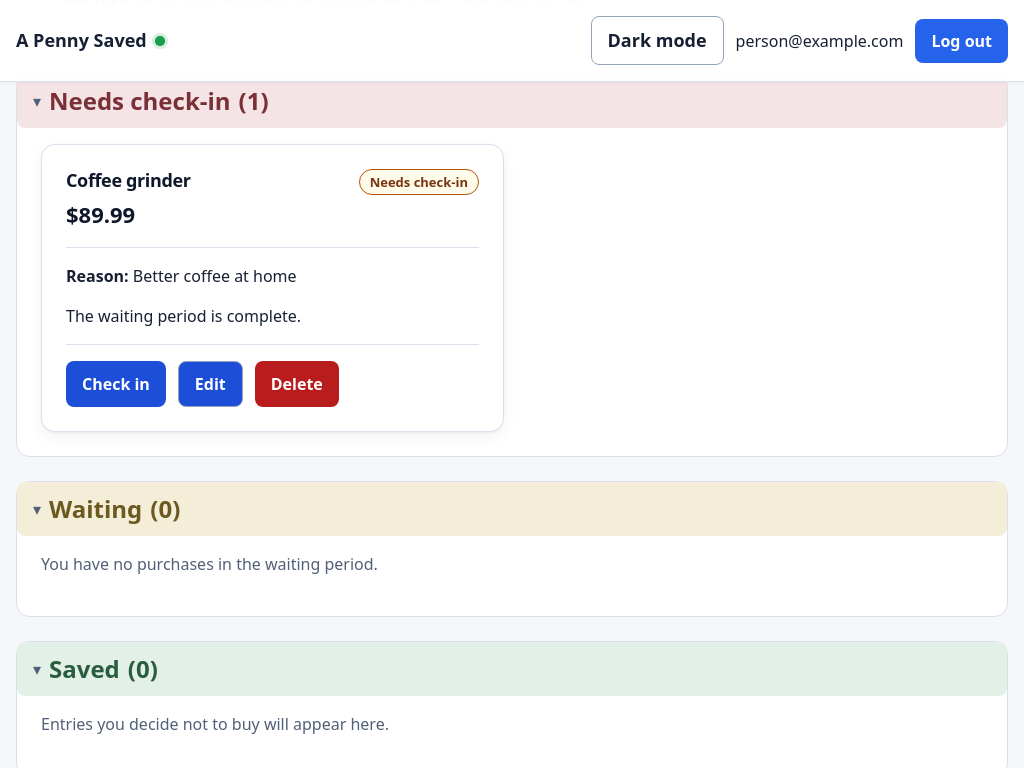
Test case: authentication routes › opens an eligible check-in from the dashboard with current server context
(page scrolled)
Click the link "Check in" at point(116, 384), box [66, 361, 166, 407]
(page scrolled)
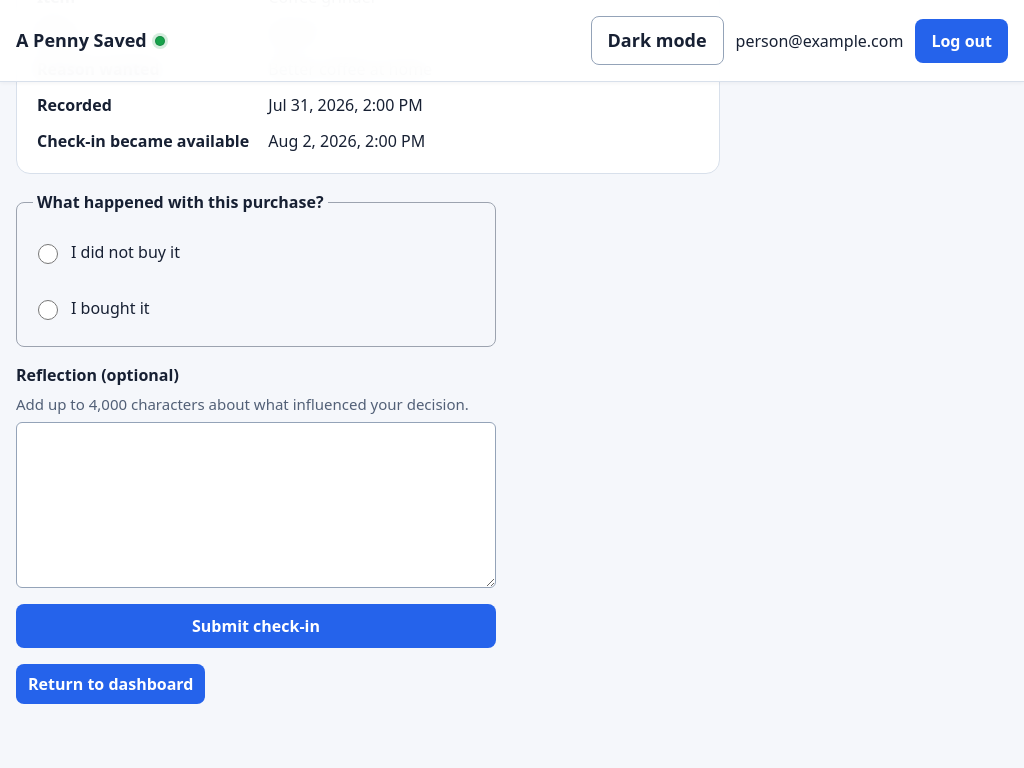
Expected: the text "Better coffee at home" is shown, [268, 58, 432, 80]
Expected: the button "Submit check-in" is shown, [16, 604, 496, 648]
